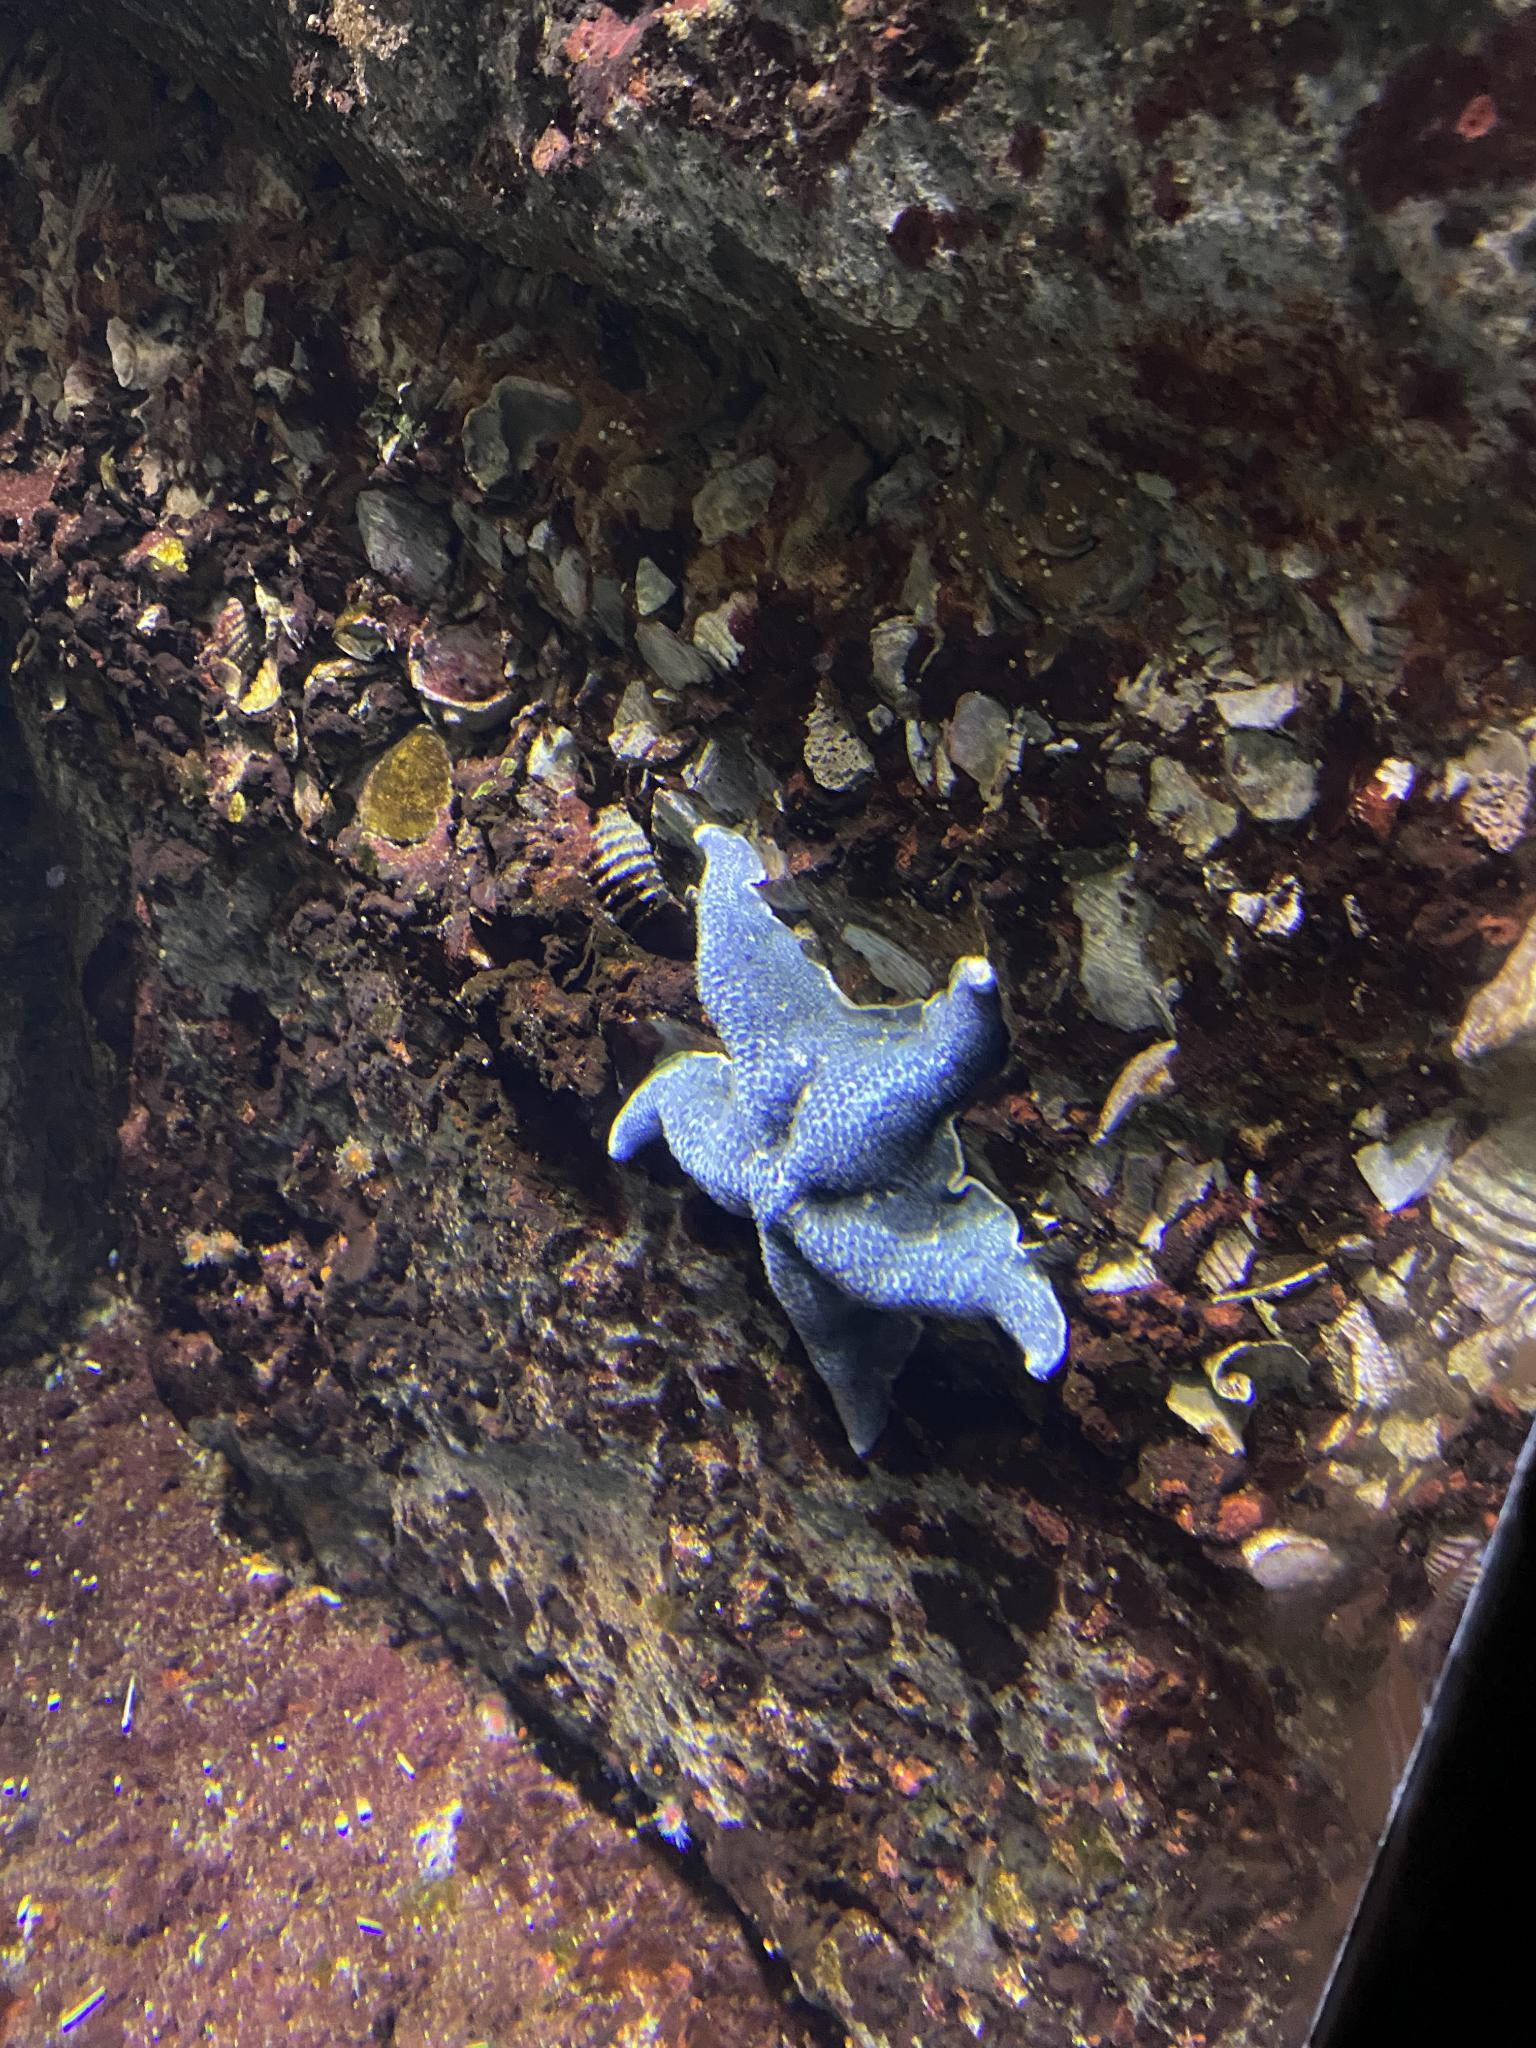starfish: (603, 819, 1068, 1461)
